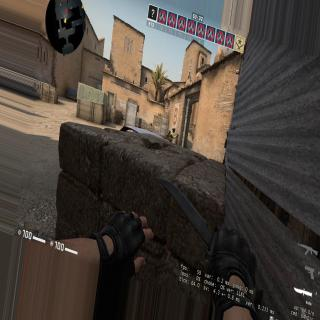CT-Body: (168, 126, 178, 142)
CT-Head: (172, 127, 175, 132)
